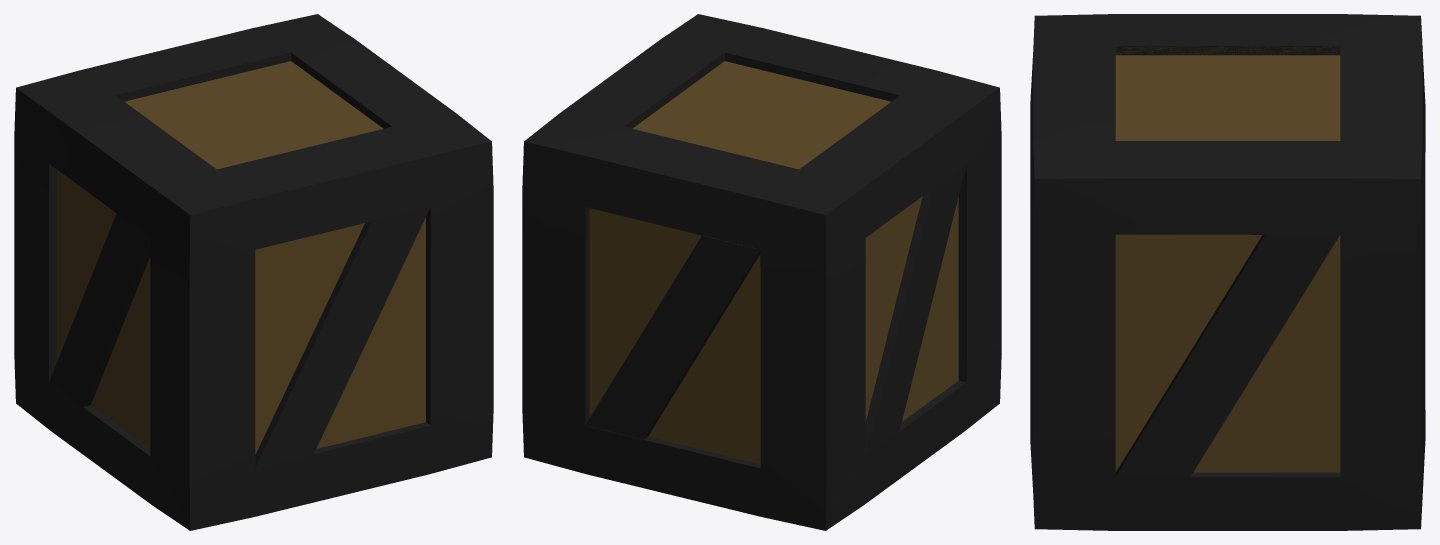
File: Crate 1.FBX
The picture shows the model from 3 angles, left to right: view 1: azimuth 30°, elevation 25°; view 2: azimuth 150°, elevation 25°; view 3: azimuth 270°, elevation 25°; orthographic projection. The views are drawn at different scales.
Parts seen in each view (by area): view 1: Crate; view 2: Crate; view 3: Crate.
Part boxes in pixels (x1,y1,x2,y2): Crate: [14, 14, 493, 530]; Crate: [522, 14, 1001, 530]; Crate: [1030, 14, 1425, 530].
Size of the model in its own units: 52.76 by 52.76 by 52.8.
